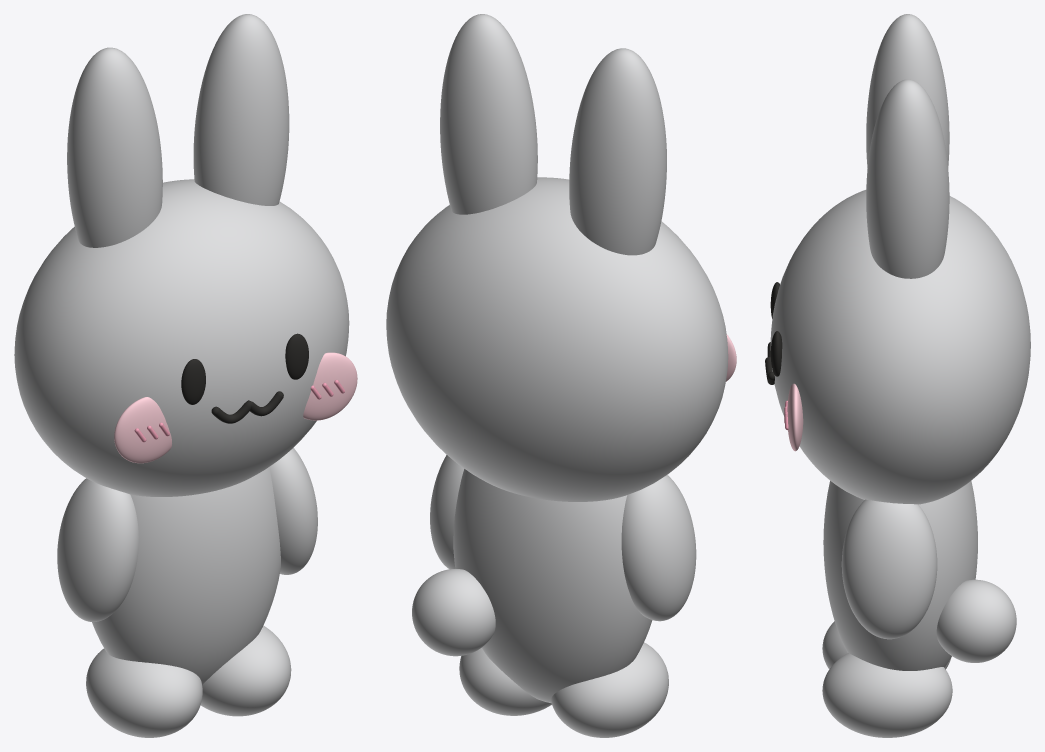
The model's file is dalchibi_3d.glb.
3 views of the same model, side by side, from view 1: azimuth 30°, elevation 25°; view 2: azimuth 150°, elevation 25°; view 3: azimuth 270°, elevation 25° (orthographic). The views are drawn at different scales.
Parts seen in each view (by area): view 1: Head, Body, Ear_L, Ear_R, Arm_-1, Foot_-1, Foot_1, Arm_1, Cheek_-1, Cheek_1, Eye_-1, Eye_1 (+1 smaller); view 2: Head, Body, Ear_L, Ear_R, Arm_-1, Foot_-1, Tail, Foot_1, Arm_1; view 3: Head, Ear_R, Body, Arm_1, Foot_1, Ear_L, Tail, Cheek_1, Foot_-1, Eye_1.
Part boxes in pixels (<box>): Head: <box>14,179,349,496</box>; Body: <box>92,467,280,684</box>; Ear_L: <box>67,47,162,247</box>; Ear_R: <box>193,14,289,205</box>; Arm_-1: <box>57,478,138,621</box>; Foot_-1: <box>86,648,202,737</box>; Foot_1: <box>200,625,291,716</box>; Arm_1: <box>269,448,317,574</box>; Cheek_-1: <box>114,397,171,463</box>; Cheek_1: <box>303,352,357,420</box>; Eye_-1: <box>181,359,205,404</box>; Eye_1: <box>285,333,308,379</box>; Head: <box>386,177,728,501</box>; Body: <box>453,469,652,703</box>; Ear_L: <box>569,48,666,255</box>; Ear_R: <box>440,14,537,214</box>; Arm_-1: <box>621,475,696,621</box>; Foot_-1: <box>551,642,668,737</box>; Tail: <box>412,569,495,656</box>; Foot_1: <box>459,648,551,715</box>; Arm_1: <box>430,455,463,569</box>; Head: <box>770,190,1030,504</box>; Ear_R: <box>866,79,949,278</box>; Body: <box>823,481,977,670</box>; Arm_1: <box>841,499,937,639</box>; Foot_1: <box>822,653,952,737</box>; Ear_L: <box>866,14,949,168</box>; Tail: <box>936,579,1016,662</box>; Cheek_1: <box>787,383,803,451</box>; Foot_-1: <box>822,621,951,669</box>; Eye_1: <box>770,331,782,376</box>.
Size of the model in its own units: 1.7 by 3.59 by 1.31.
